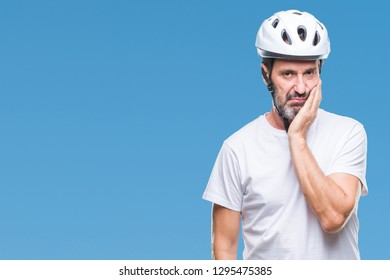helmet: (255, 10, 331, 121)
